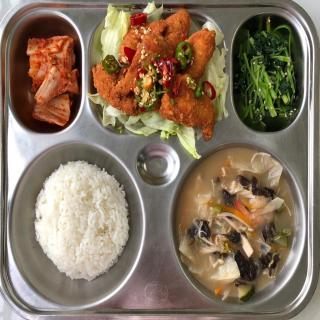Nasi: (36, 155, 132, 282)
